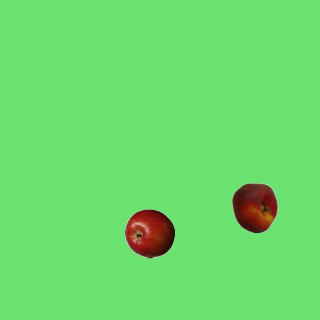Apple Braeburn: (124, 208, 174, 258)
Nectarine Flat: (229, 182, 279, 232)
